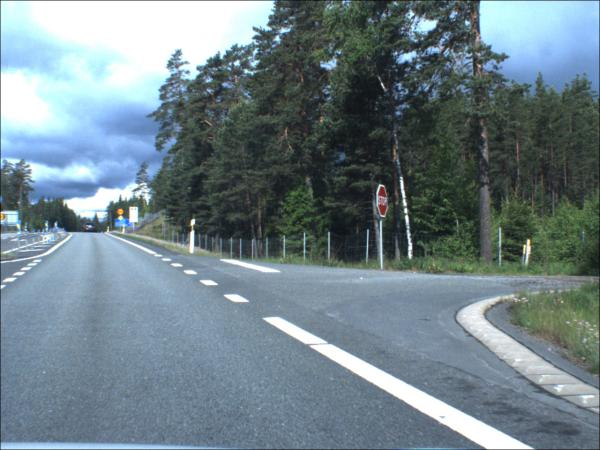100_SIGN: (118, 210, 126, 217)
PRIORITY_ROAD: (119, 217, 126, 222)
STOP: (378, 185, 390, 219)
